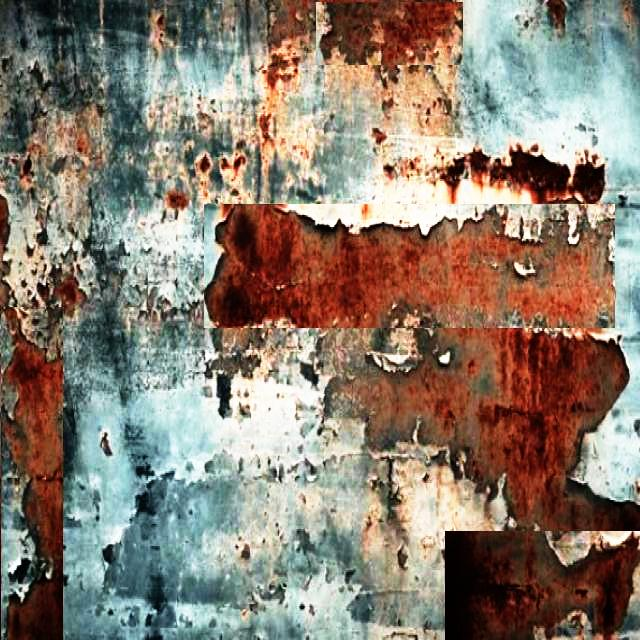Corrosion: (327, 330, 640, 530), (205, 204, 616, 328), (0, 195, 63, 640), (447, 532, 640, 640), (1, 307, 63, 640), (320, 1, 462, 64), (508, 143, 572, 203), (573, 149, 607, 204), (219, 151, 251, 202), (54, 275, 86, 316), (441, 156, 466, 204), (194, 151, 213, 204), (469, 147, 491, 186), (165, 190, 189, 214), (491, 157, 509, 184), (383, 163, 396, 180)
